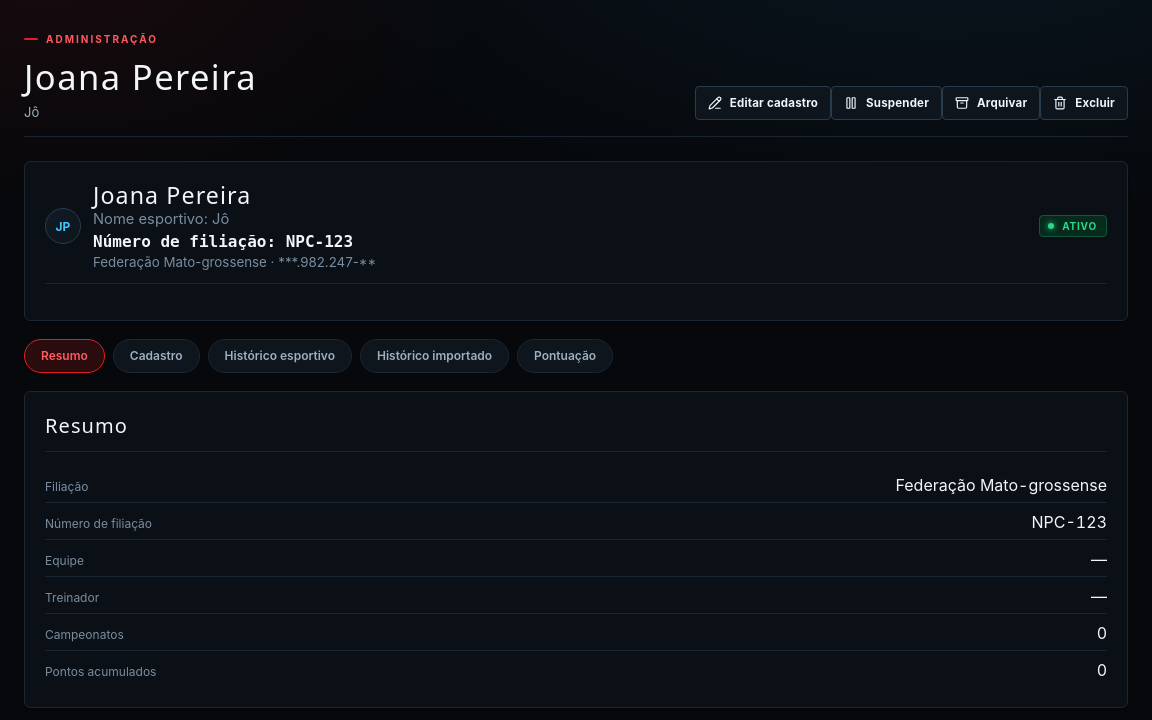
o CPF nunca é desmascarado pela tela › pedir o inteiro é uma chamada ao servidor, e o que aparece é a resposta dele
Click the button "Cadastro". click: (156, 356)
box: 113,339 -> 200,373
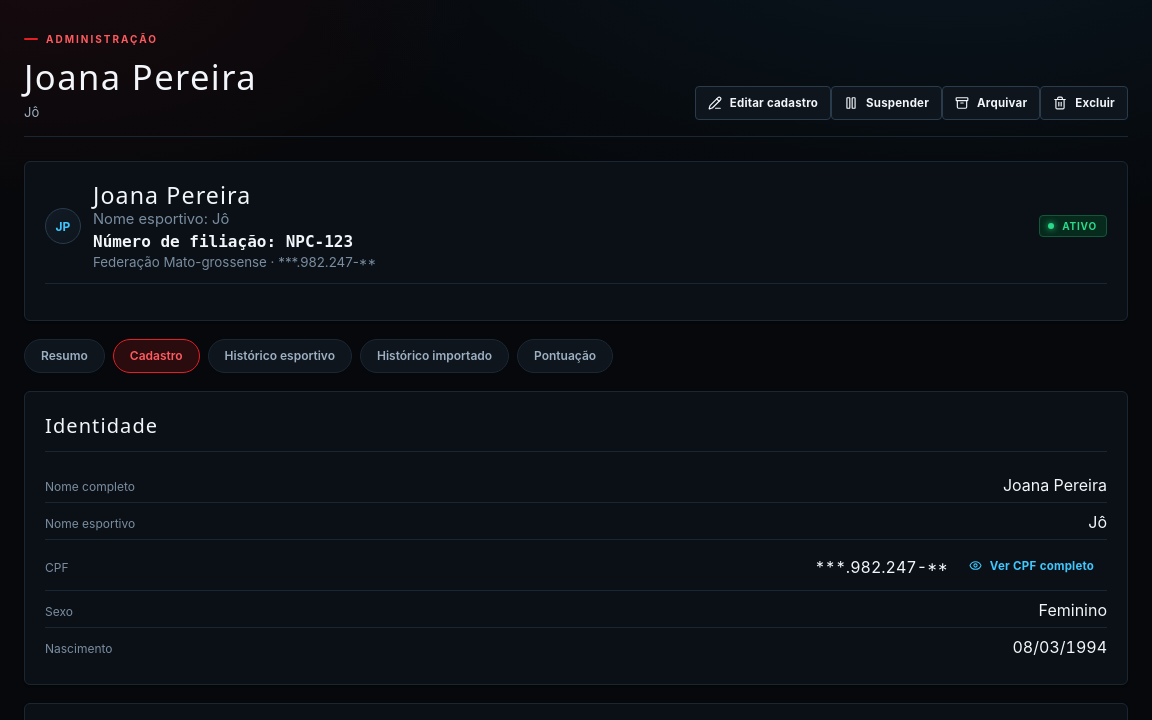
Click the button "Ver CPF completo". click: (1031, 566)
box: 956,549 -> 1107,583
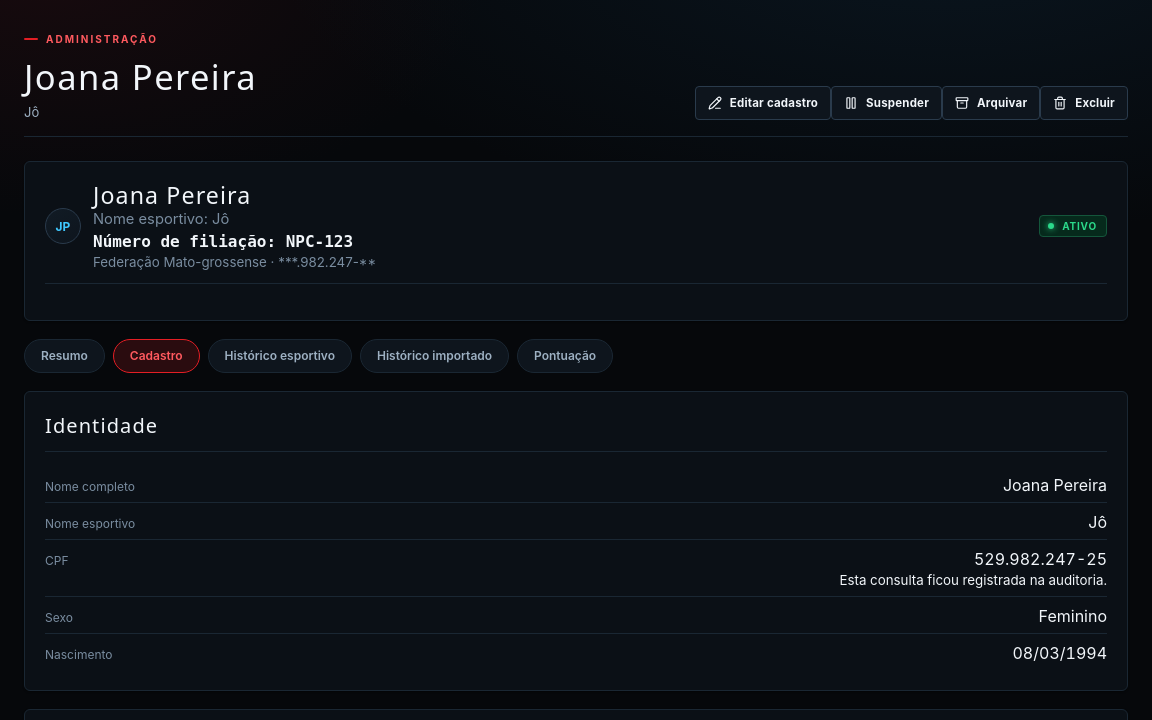
Check: the text "529.982.247-25" is shown, box 974,549 -> 1107,569
Check: the text "Esta consulta ficou registrada na auditoria." is shown, box 840,572 -> 1107,588
